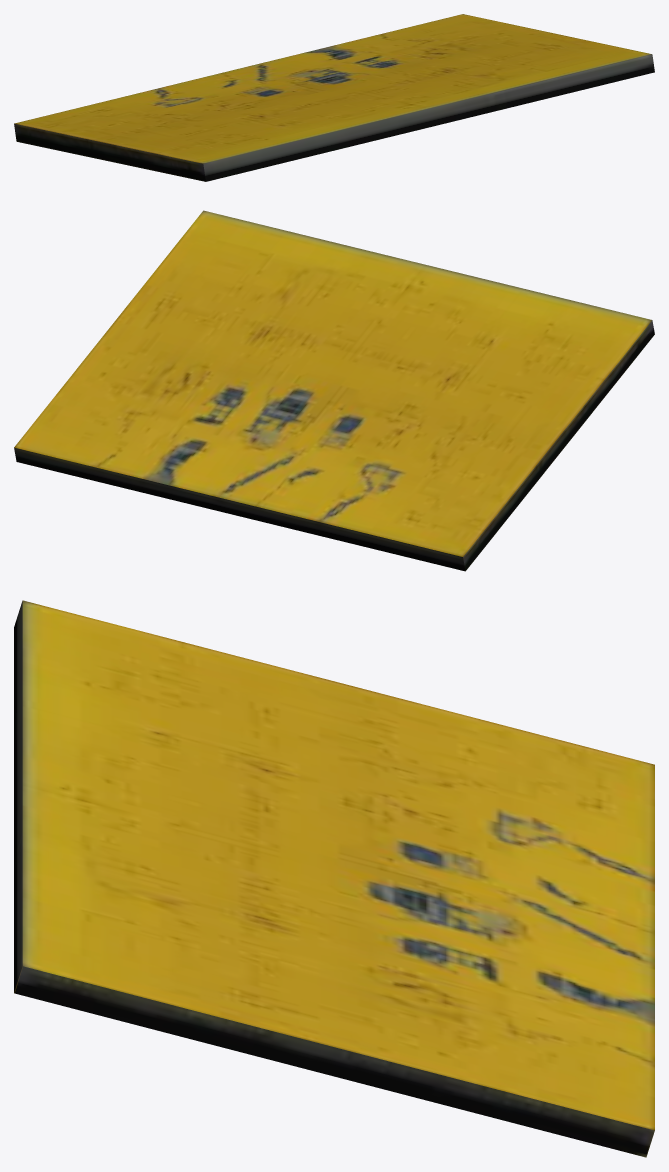
Rendered from body__screen_glass.glb.
3 views of the same model, one above another, from view 1: azimuth 30°, elevation 25°; view 2: azimuth 150°, elevation 25°; view 3: azimuth 270°, elevation 25° (orthographic). The views are drawn at different scales.
Visible parts, largest first — view 1: geometry_0; view 2: geometry_0; view 3: geometry_0.
Boxes of the visible parts, x1,y1,x2,y2 form: geometry_0: [14, 14, 654, 181]; geometry_0: [14, 210, 654, 571]; geometry_0: [14, 600, 654, 1157].
Bounding box in the file's own units: 0.5 × 0.122 × 0.3702.
1 material, 1 textured.
